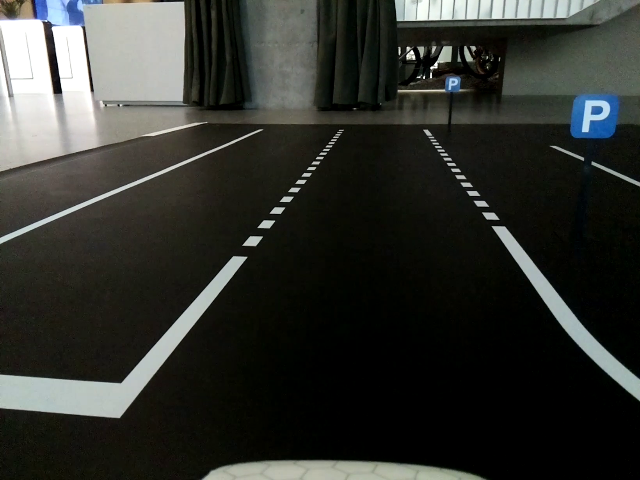park: (572, 95, 617, 137), (445, 77, 461, 91)
